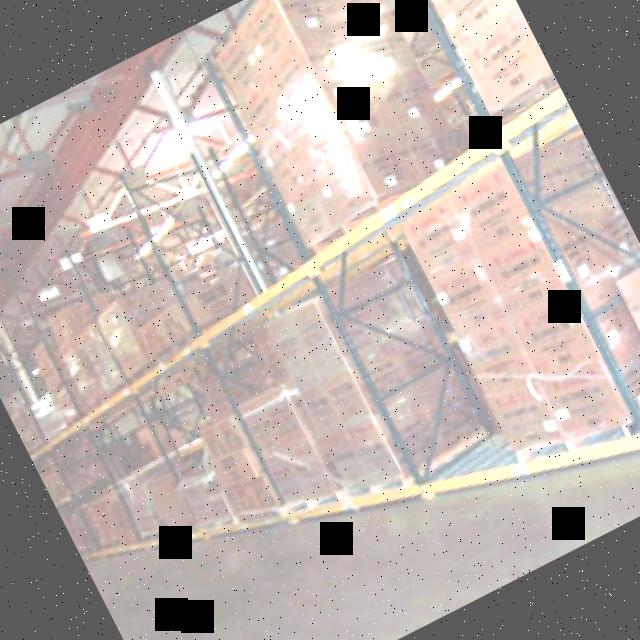box: (275, 92, 459, 234), (241, 29, 426, 167), (496, 270, 630, 447), (200, 0, 397, 94), (448, 301, 559, 451), (428, 0, 552, 109), (400, 199, 500, 321), (454, 168, 553, 290), (289, 298, 373, 427), (264, 313, 338, 430), (245, 392, 319, 473), (318, 422, 369, 491), (279, 455, 335, 508), (192, 409, 247, 462), (353, 419, 399, 482), (210, 445, 260, 494), (227, 477, 276, 521)
